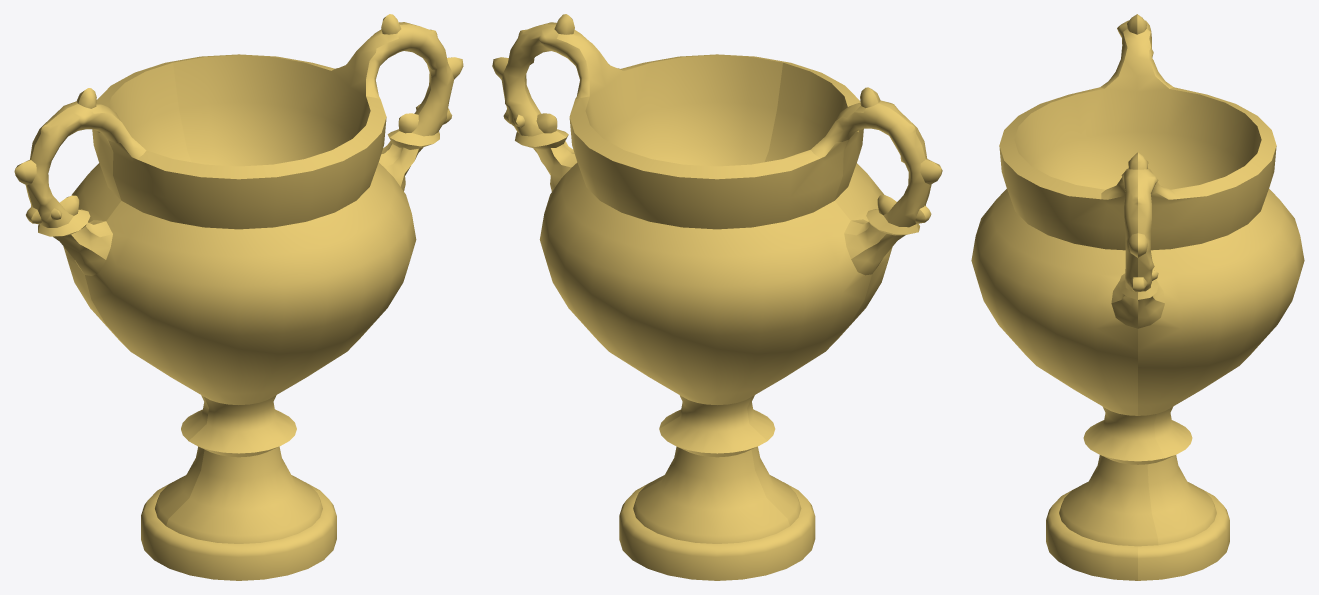
Rendered from SM_Ancient_Urn_2.fbx.
The picture shows the model from 3 angles, left to right: view 1: azimuth 30°, elevation 25°; view 2: azimuth 150°, elevation 25°; view 3: azimuth 270°, elevation 25°; orthographic projection. The views are drawn at different scales.
Visible parts, largest first — view 1: SM_Ancient_Urn_2; view 2: SM_Ancient_Urn_2; view 3: SM_Ancient_Urn_2.
Boxes of the visible parts, bbox=[...] form: SM_Ancient_Urn_2: bbox=[14, 14, 463, 580]; SM_Ancient_Urn_2: bbox=[492, 14, 942, 580]; SM_Ancient_Urn_2: bbox=[971, 14, 1304, 580].
Size of the model in its own units: 0.5834 by 0.6088 by 0.4006.
